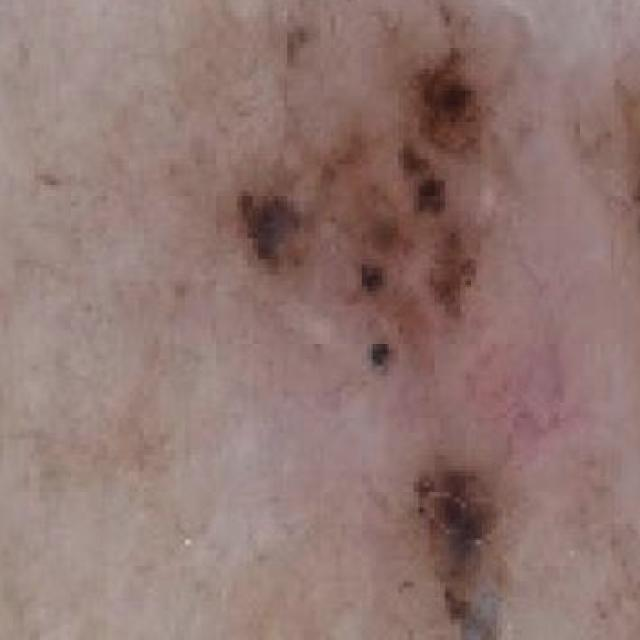BCC: (171, 0, 640, 640)
